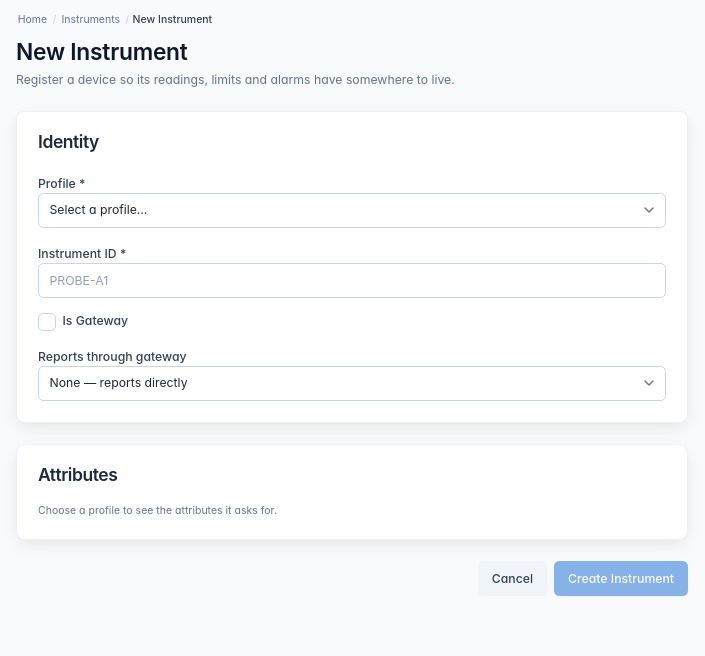
Test: InstrumentCreatePage — the trimmed form › has no placement inputs of its own — they come from the profile key list
Select "Cleanroom-A" in the dropdown labelled "Profile *" at (352, 210), box [38,193,666,228]
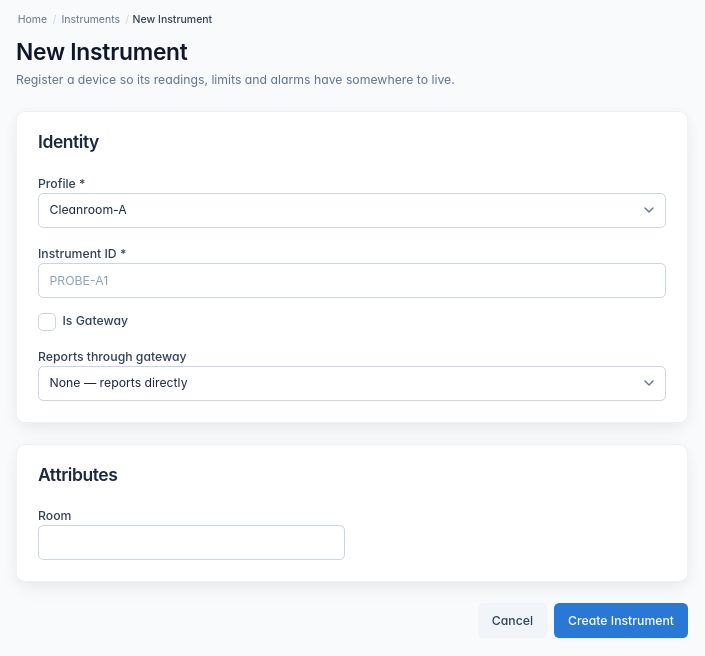
Result: the field labelled "Room" is shown at [38,525,345,560]
